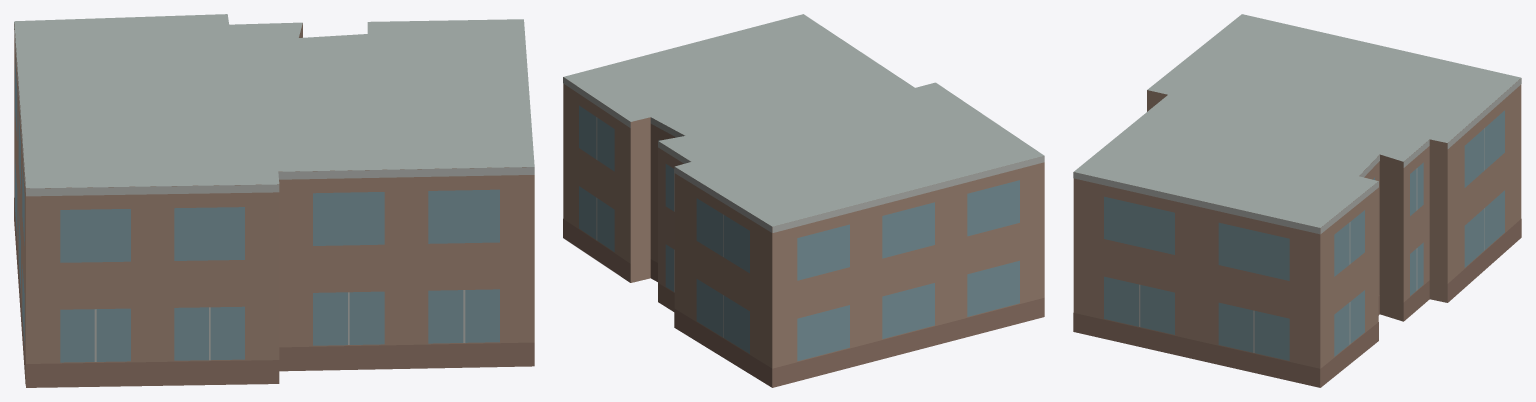
File: survey-upis-32928266.glb
3 renders of one model, left to right at view 1: azimuth 30°, elevation 25°; view 2: azimuth 150°, elevation 25°; view 3: azimuth 270°, elevation 25°, orthographic. The views are drawn at different scales.
Parts seen in each view (by area): view 1: survey-upis-32928266.tmp; view 2: survey-upis-32928266.tmp; view 3: survey-upis-32928266.tmp.
Boxes of the visible parts, x1,y1,x2,y2 form: survey-upis-32928266.tmp: (14, 14, 534, 387); survey-upis-32928266.tmp: (563, 14, 1044, 387); survey-upis-32928266.tmp: (1073, 14, 1521, 387).
Bounding box in the file's own units: 17.52 × 6.1 × 15.5.
